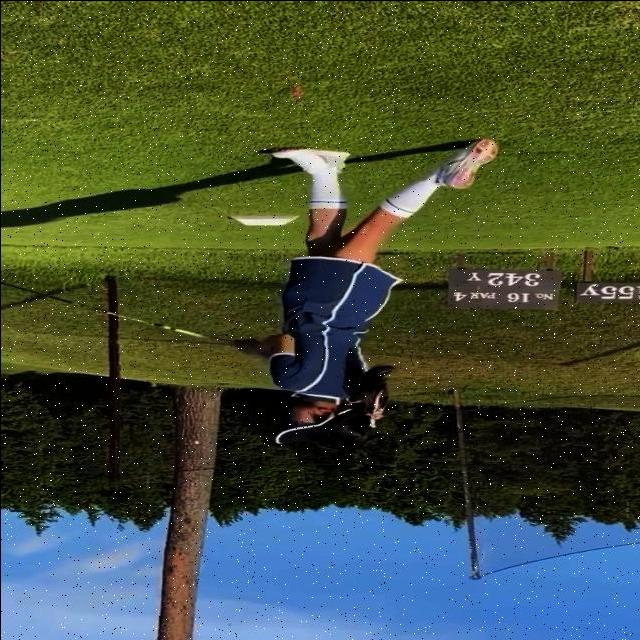golf club-handle: (0, 282, 236, 346)
